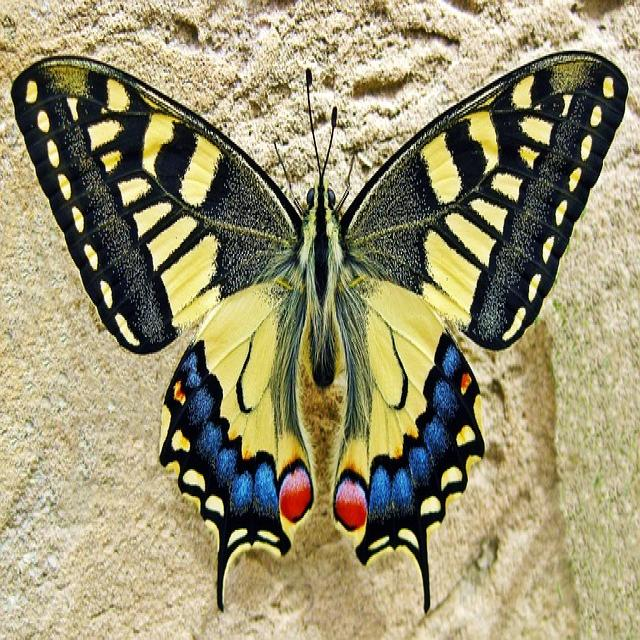butterfly: (12, 51, 628, 608)
